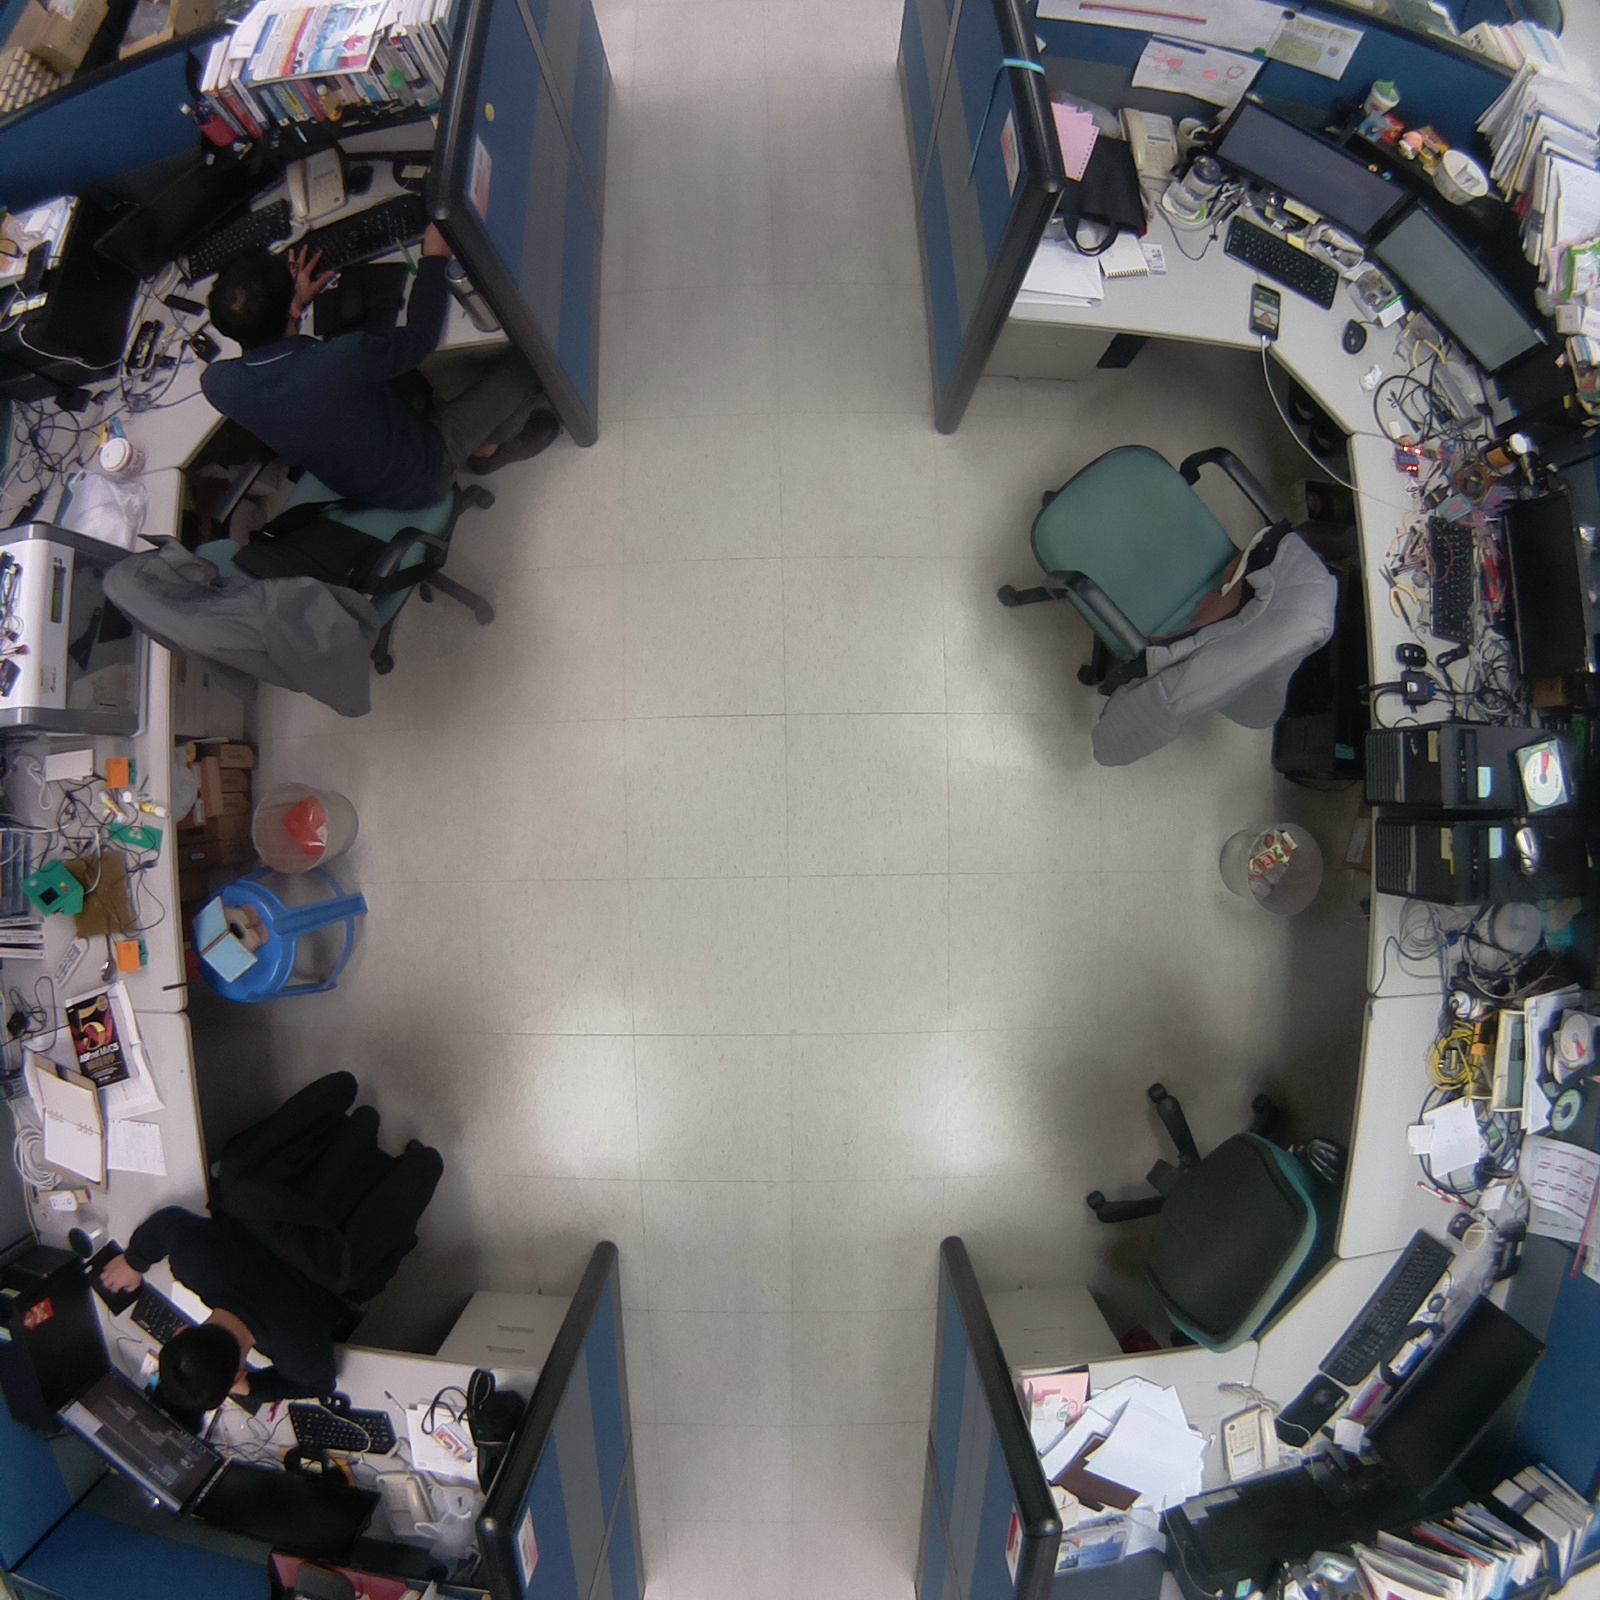chair: (976, 414, 1360, 791), (1060, 1060, 1347, 1368)
head: (200, 238, 315, 361), (155, 1317, 255, 1421)
sitting: (86, 222, 565, 737), (96, 1050, 486, 1440)
